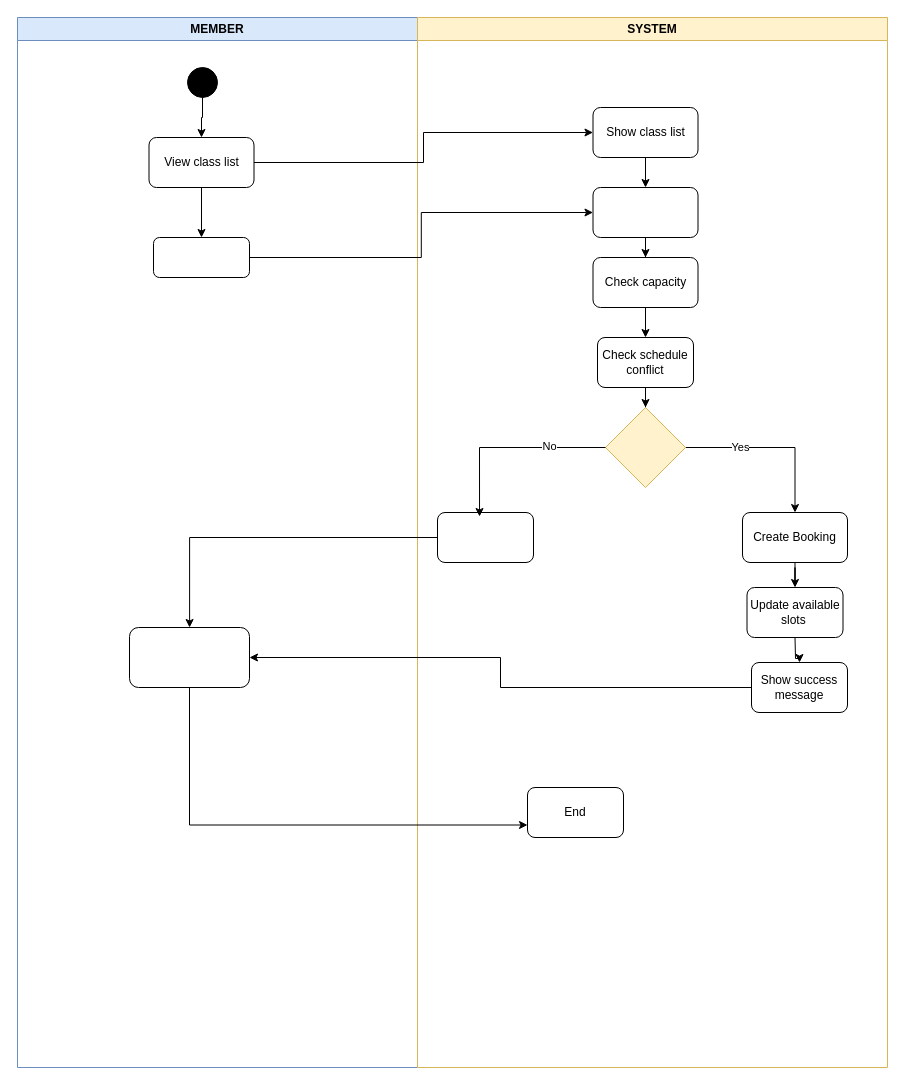
This 905x1085 diagram has some shape labels left out. Each missing label, with the centre of its shape:
"Check Membership" goes at point (645, 212).
"Receive notification" goes at point (189, 657).
"Registration valid?" goes at point (645, 447).
"Select class" goes at point (201, 257).
"Show error" goes at point (485, 537).
